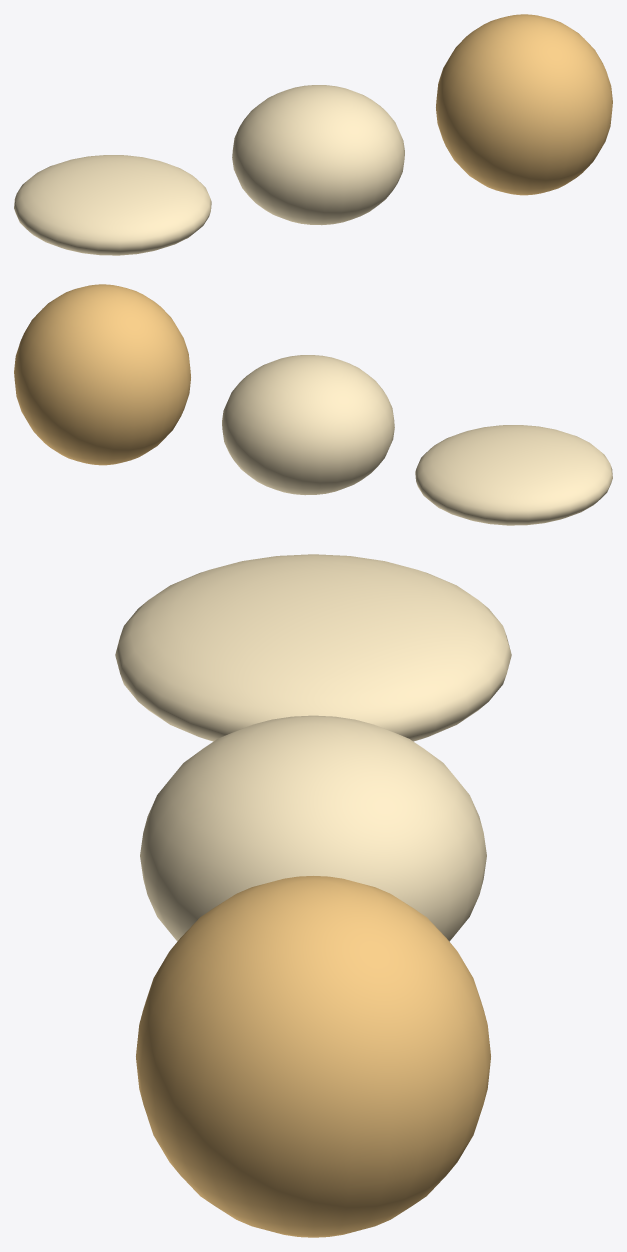
The model's file is shaping.glb.
The picture shows the model from 3 angles, top to bottom: view 1: azimuth 30°, elevation 25°; view 2: azimuth 150°, elevation 25°; view 3: azimuth 270°, elevation 25°; orthographic projection. The views are drawn at different scales.
Parts seen in each view (by area): view 1: 부드러운 빵 속, 밝은 구움색; view 2: 부드러운 빵 속, 밝은 구움색; view 3: 부드러운 빵 속, 밝은 구움색.
Part boxes in pixels (x1,y1,x2,y2): 부드러운 빵 속: (14, 85, 404, 255); 밝은 구움색: (436, 14, 612, 195); 부드러운 빵 속: (222, 355, 612, 525); 밝은 구움색: (14, 284, 190, 465); 부드러운 빵 속: (115, 554, 511, 941); 밝은 구움색: (136, 876, 490, 1237).
Bounding box in the file's own units: 3.21 × 0.88 × 0.96.
